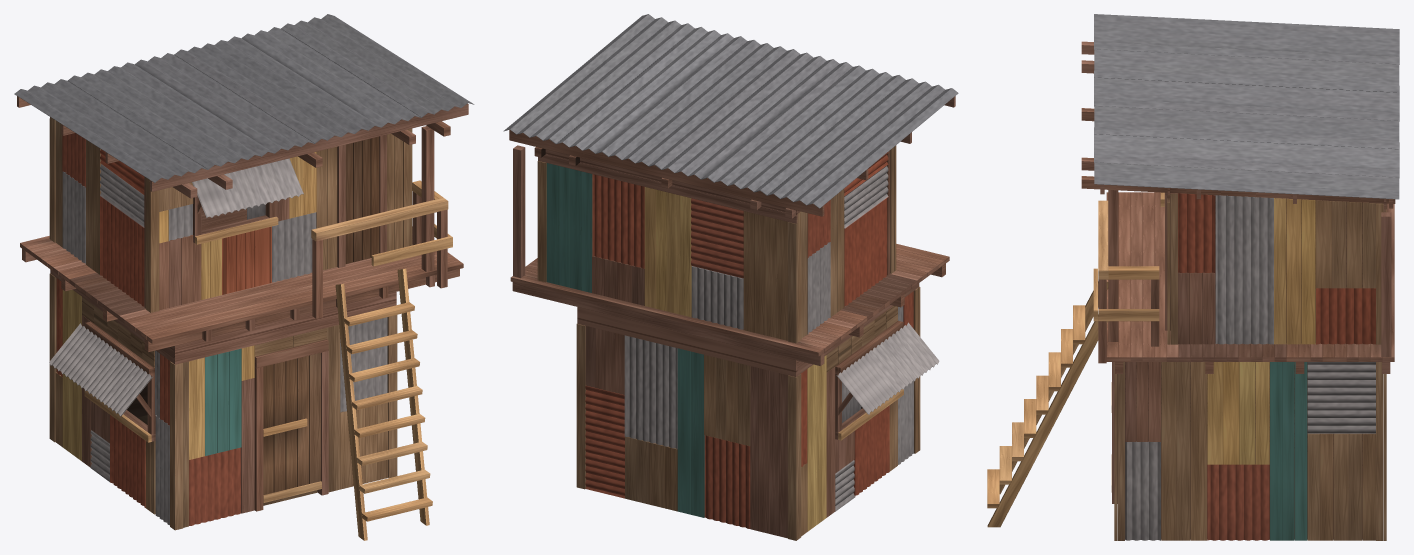
The model's file is houdini_stacked_shack.glb.
The picture shows the model from 3 angles, left to right: view 1: azimuth 30°, elevation 25°; view 2: azimuth 150°, elevation 25°; view 3: azimuth 270°, elevation 25°; orthographic projection. The views are drawn at different scales.
Parts seen in each view (by area): view 1: LOD0; view 2: LOD0; view 3: LOD0.
Part boxes in pixels (x1,y1,x2,y2): LOD0: (14, 14, 474, 540); LOD0: (503, 14, 958, 540); LOD0: (987, 14, 1399, 540).
Size of what is drawn, in the model's own units: 4.9 by 5.24 by 4.93.
2 materials, 2 textured.
